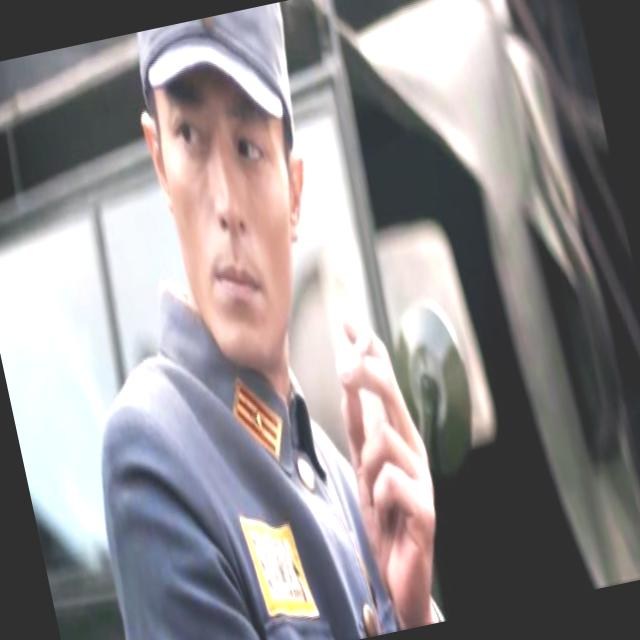cigarette: (332, 317, 382, 382)
